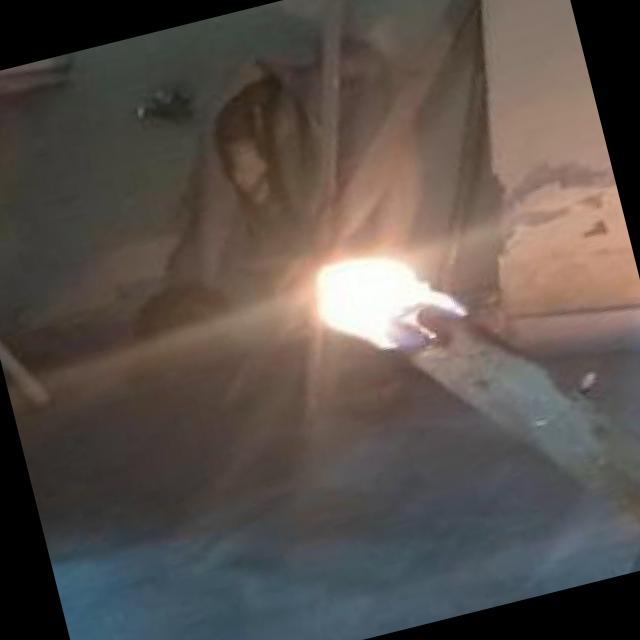fire: (262, 210, 484, 378)
